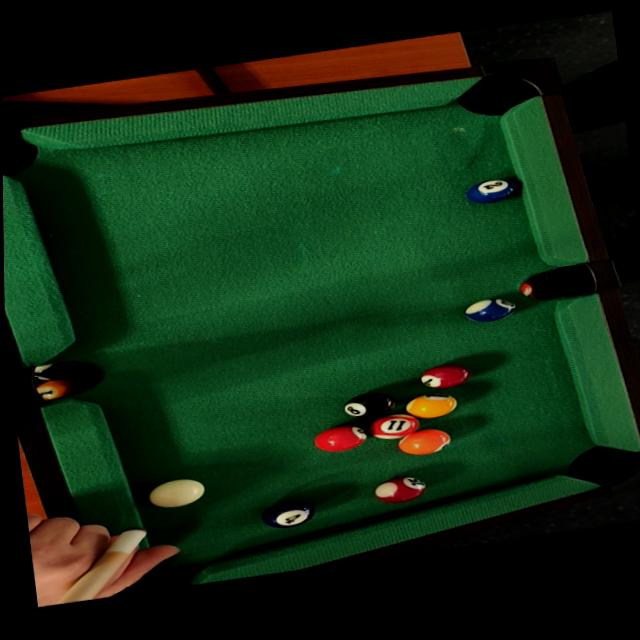cue ball: (134, 476, 209, 511)
other: (455, 292, 535, 331), (304, 420, 374, 459), (452, 171, 523, 207), (387, 422, 454, 460), (255, 495, 321, 533), (366, 471, 433, 507), (409, 361, 479, 395), (366, 407, 421, 444), (399, 388, 462, 420), (339, 388, 397, 422)
